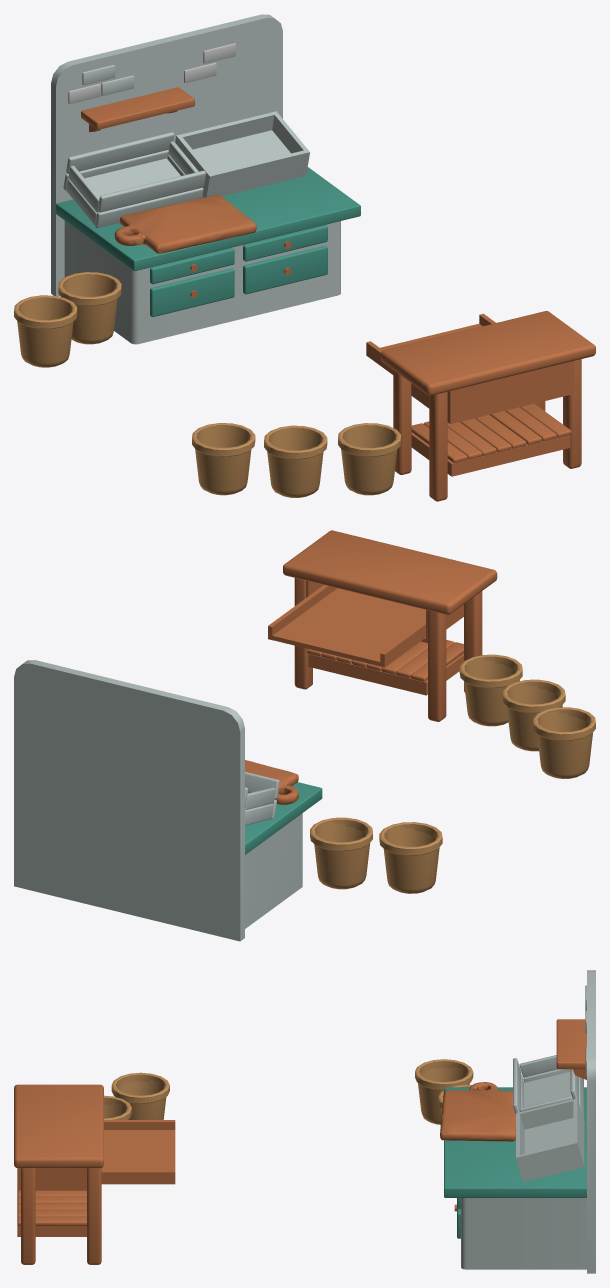
Rendered from tools_one.fbx.
3 views of the same model, one above another, from view 1: azimuth 30°, elevation 25°; view 2: azimuth 150°, elevation 25°; view 3: azimuth 270°, elevation 25° (orthographic). The views are drawn at different scales.
Visible parts, largest first — view 1: LEFT, tools, 롤리통_1, Cylinder_2, Cylinder, Tube_2, Tube; view 2: LEFT, tools, 롤리통_1, Cylinder_2, Cylinder, Tube_2, Tube; view 3: LEFT, tools, Cylinder_2, Tube_2.
Part boxes in pixels (left/top/right/bottom): LEFT: left=14, top=14, right=360, bottom=367; tools: left=366, top=311, right=595, bottom=501; 롤리통_1: left=338, top=423, right=401, bottom=495; Cylinder_2: left=195, top=425, right=251, bottom=495; Cylinder: left=267, top=428, right=323, bottom=497; Tube_2: left=192, top=423, right=255, bottom=456; Tube: left=264, top=425, right=327, bottom=459; LEFT: left=14, top=660, right=442, bottom=941; tools: left=268, top=530, right=497, bottom=721; 롤리통_1: left=459, top=654, right=522, bottom=726; Cylinder_2: left=537, top=711, right=592, bottom=778; Cylinder: left=506, top=683, right=562, bottom=751; Tube_2: left=533, top=707, right=595, bottom=740; Tube: left=502, top=679, right=565, bottom=713; LEFT: left=415, top=970, right=595, bottom=1273; tools: left=14, top=1084, right=175, bottom=1264; Cylinder_2: left=117, top=1080, right=166, bottom=1119; Tube_2: left=111, top=1072, right=169, bottom=1103.
Bounding box in the file's own units: 132 × 83.81 × 212.
